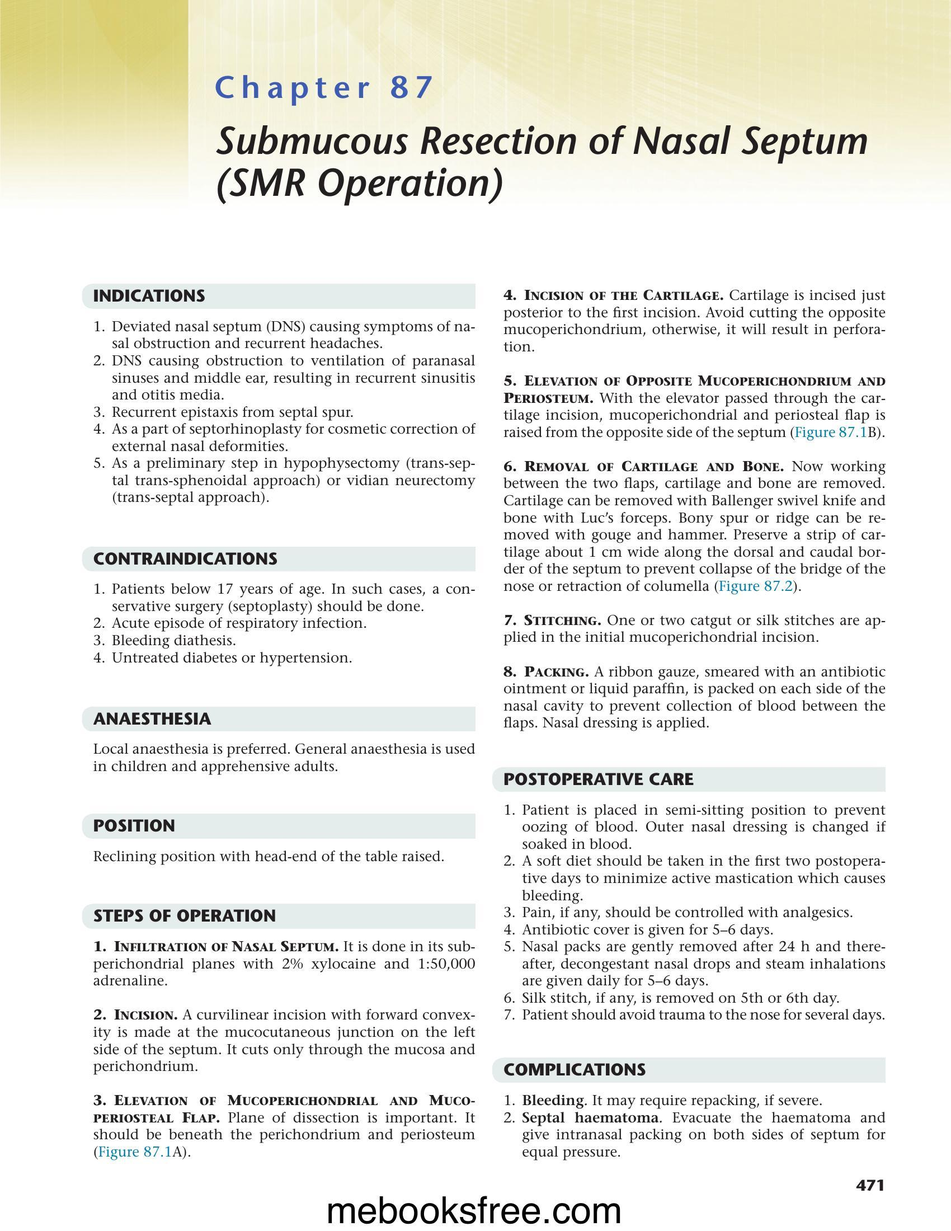chapter-heading: (213, 122, 872, 208)
list: (499, 287, 885, 734), (502, 801, 887, 1026), (91, 938, 477, 1162), (91, 318, 478, 508), (91, 580, 477, 669), (502, 1092, 887, 1162)
section-heading: (502, 770, 694, 787), (92, 550, 278, 567), (93, 908, 276, 923), (502, 1061, 646, 1077), (92, 710, 213, 726), (92, 288, 206, 303), (92, 817, 177, 834)
text: (91, 742, 477, 776), (93, 849, 446, 867)
